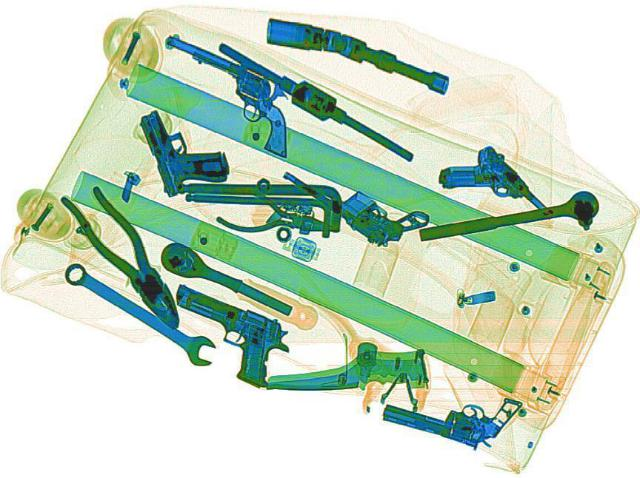Gun: (119, 33, 333, 156), (133, 281, 310, 388), (274, 142, 434, 252), (376, 367, 524, 450), (427, 143, 553, 234), (135, 100, 233, 195)
Pliers: (57, 182, 199, 332), (207, 181, 346, 251)
Wrench: (52, 257, 228, 366)
